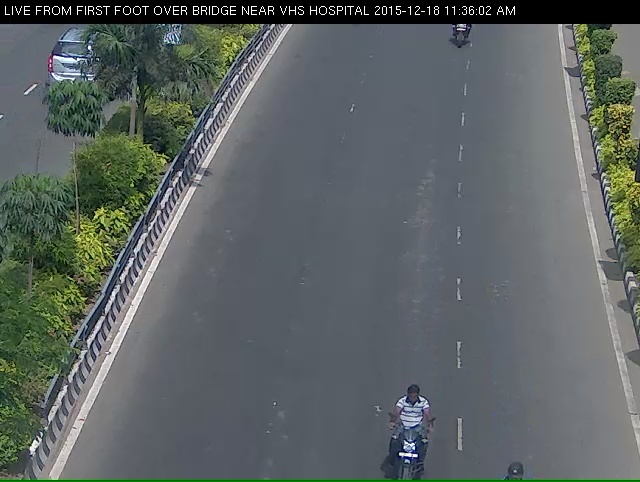Person: (383, 415, 444, 482), (446, 22, 483, 60)
